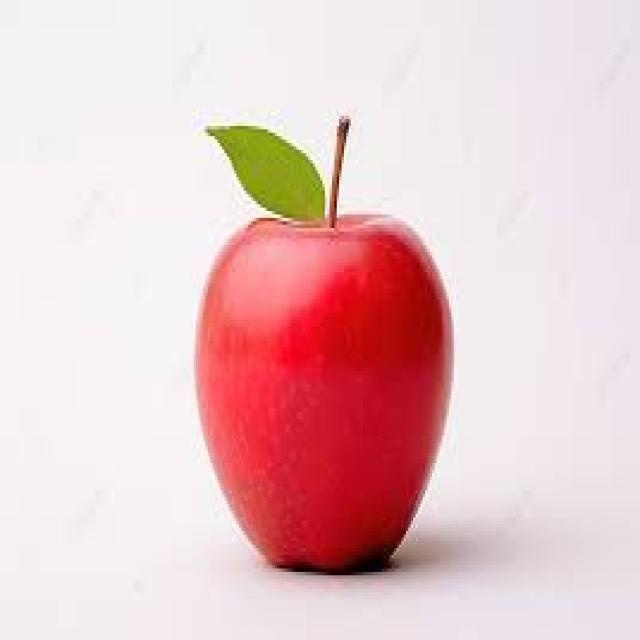agrume: (190, 151, 465, 602)
